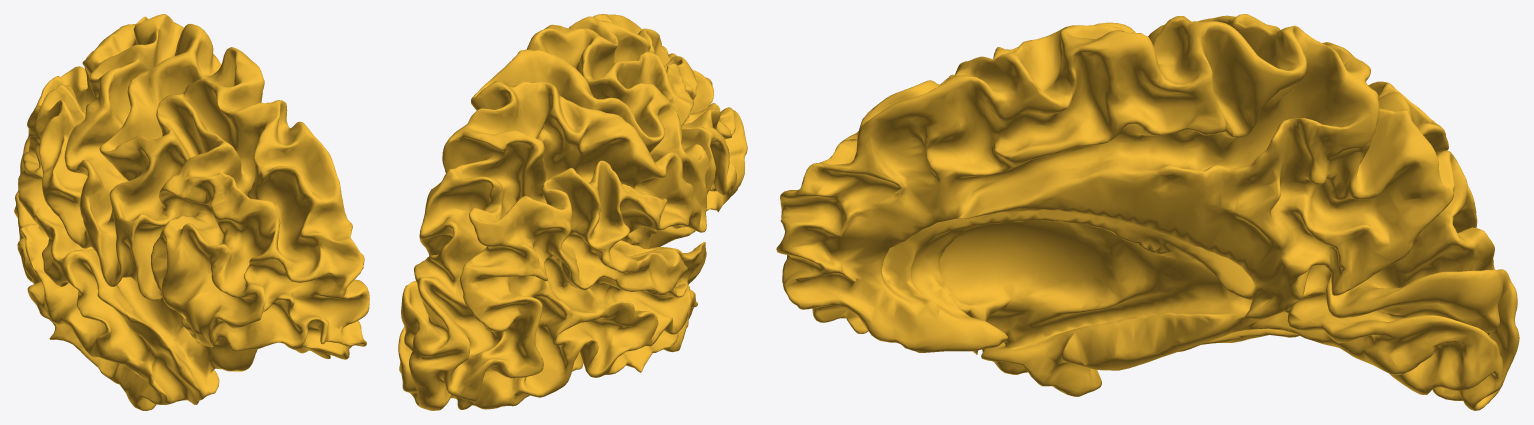
Rendered from nervoso-white-matter-of-telencephalon-r.glb.
3 views of the same model, side by side, from view 1: azimuth 30°, elevation 25°; view 2: azimuth 150°, elevation 25°; view 3: azimuth 270°, elevation 25° (orthographic). The views are drawn at different scales.
Visible parts, largest first — view 1: White matter of telencephalon.r; view 2: White matter of telencephalon.r; view 3: White matter of telencephalon.r.
Boxes of the visible parts, box(x1,y1,x2,y2) form: White matter of telencephalon.r: box(14, 14, 369, 410); White matter of telencephalon.r: box(398, 14, 747, 410); White matter of telencephalon.r: box(776, 14, 1519, 410).
Size of the model in its own units: 0.0635 by 0.1095 by 0.1749.
